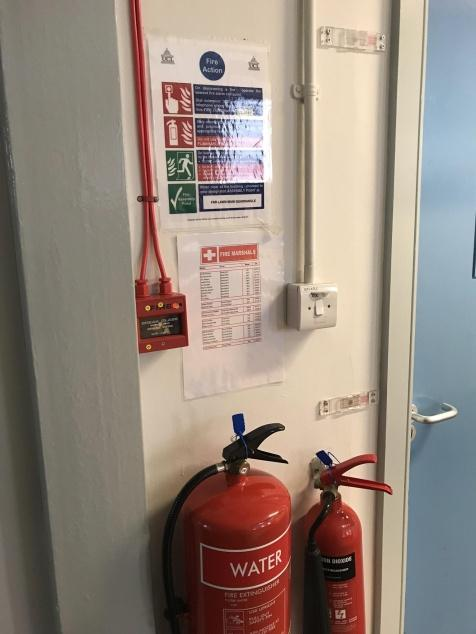APAR: (175, 422, 288, 633), (304, 452, 377, 633)
